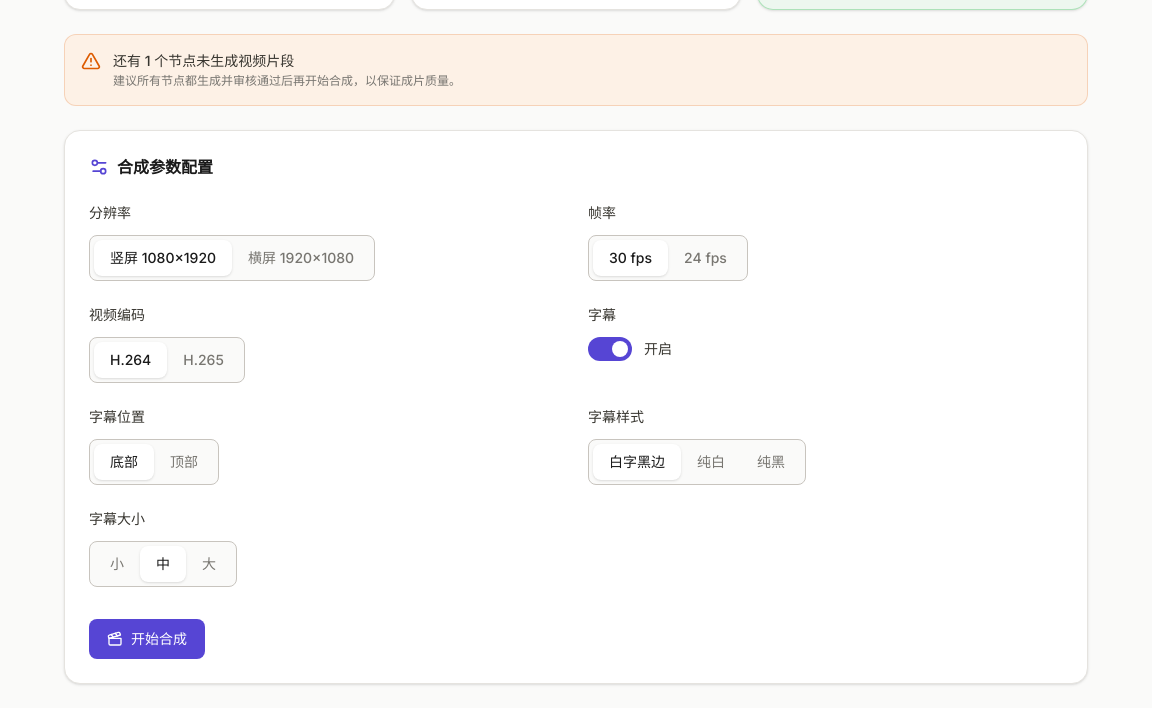
Scenario: RenderPage › should render transitions and subtitle cues when render output includes them
(page scrolled)
What coordinates should you click on to do the following:
click the button "开始合成"
I would click on:
 (147, 639)
Its box is [89, 619, 205, 659].
(page scrolled)
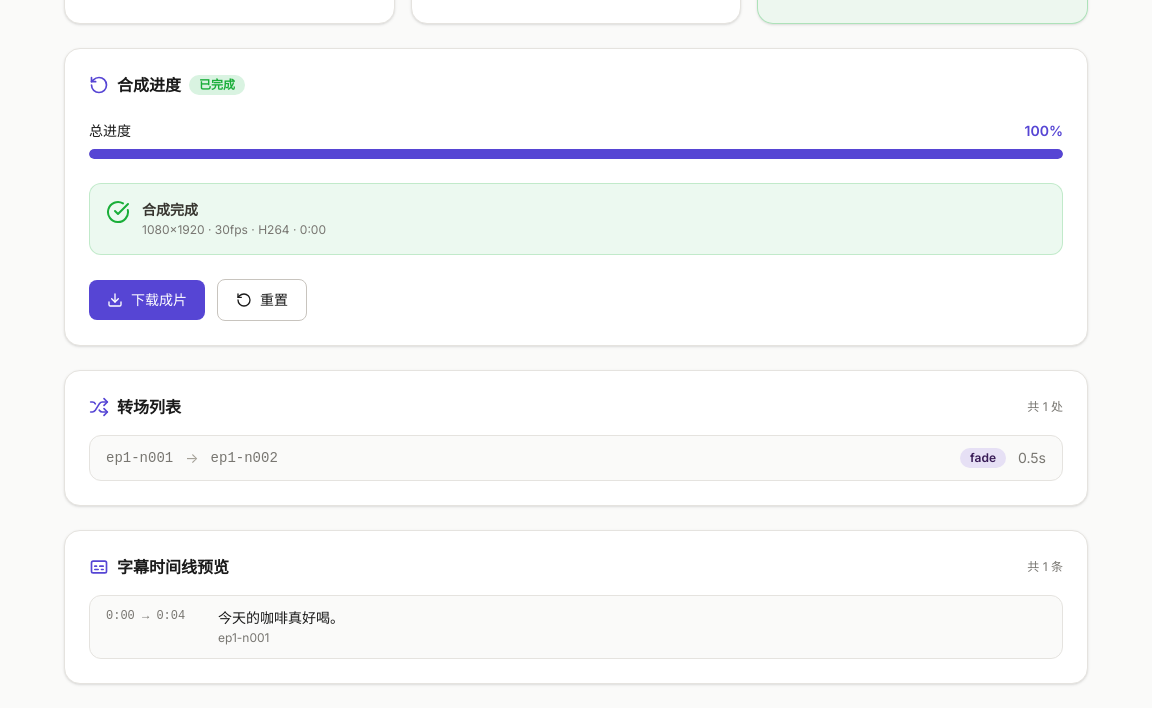
Check: the heading "转场列表" is shown, box [117, 395, 181, 419]
Check: the heading "字幕时间线预览" is shown, box [117, 555, 229, 579]
Check: the text "今天的咖啡真好喝。" is shown, box [218, 609, 344, 626]
